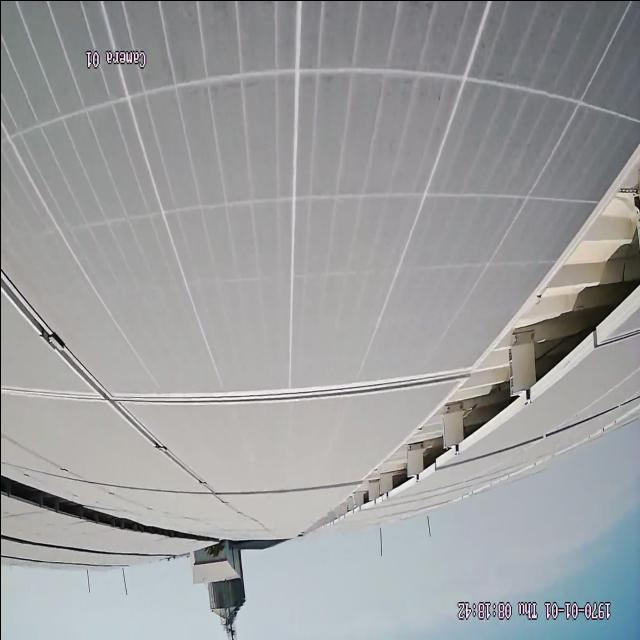interior panel: (0, 267, 464, 490)
outher panel: (318, 147, 640, 522), (0, 469, 167, 535)
